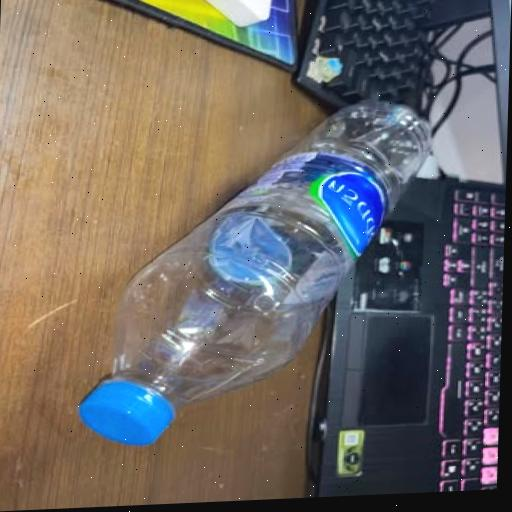ba: (67, 88, 446, 454)
